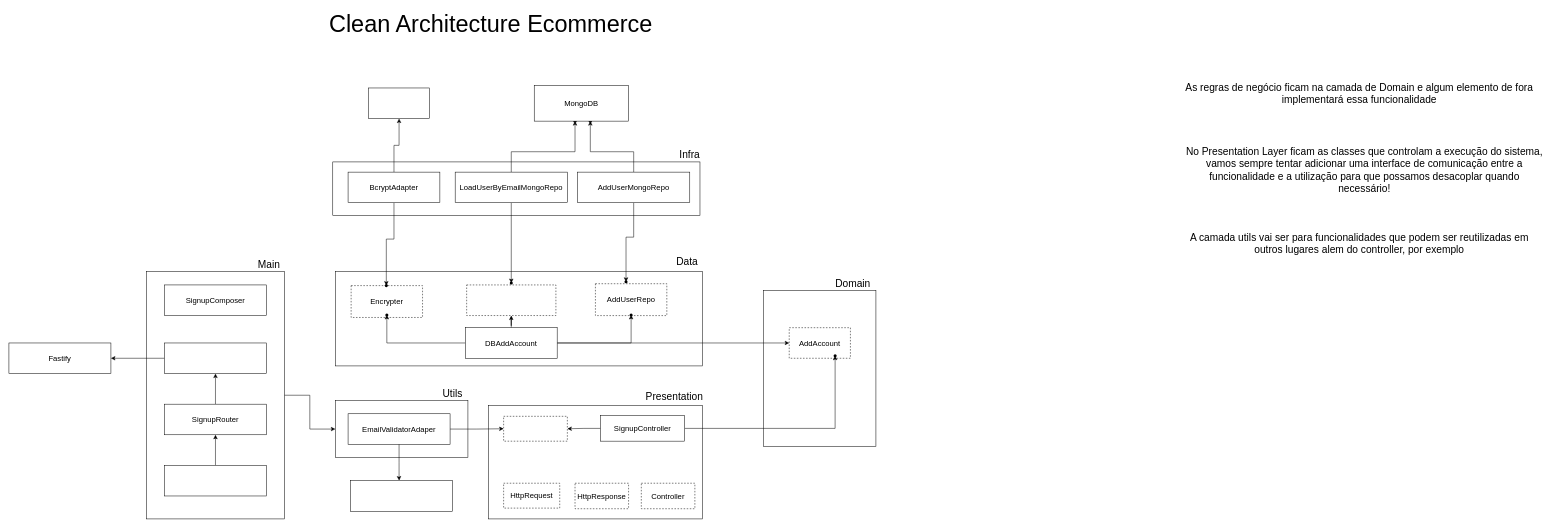
Some shapes in this 1556 by 528 pixel diagram are drawn without their labels. Each missing label, with the centre of its shape:
App: (215,480)
Bcrypt: (399,103)
EmailValidator: (535,428)
FastifyRouteAdapter: (215,358)
LoadUserByEmailRepo: (511,300)
Validator: (401,495)
